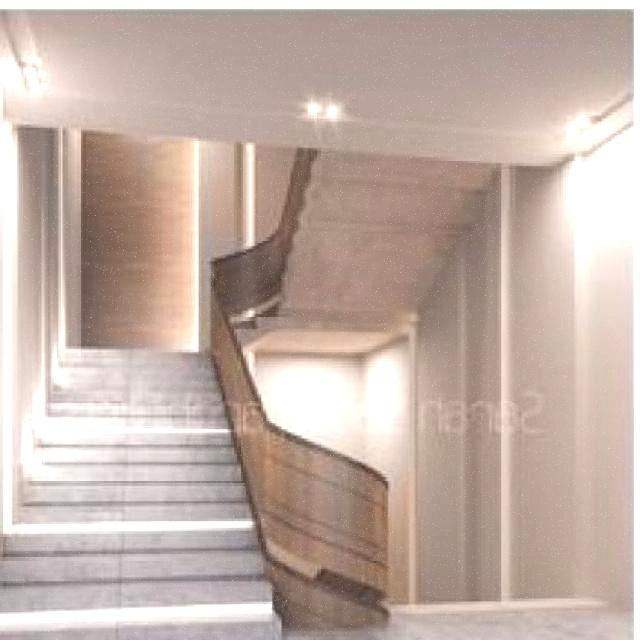stair: (3, 275, 317, 637)
